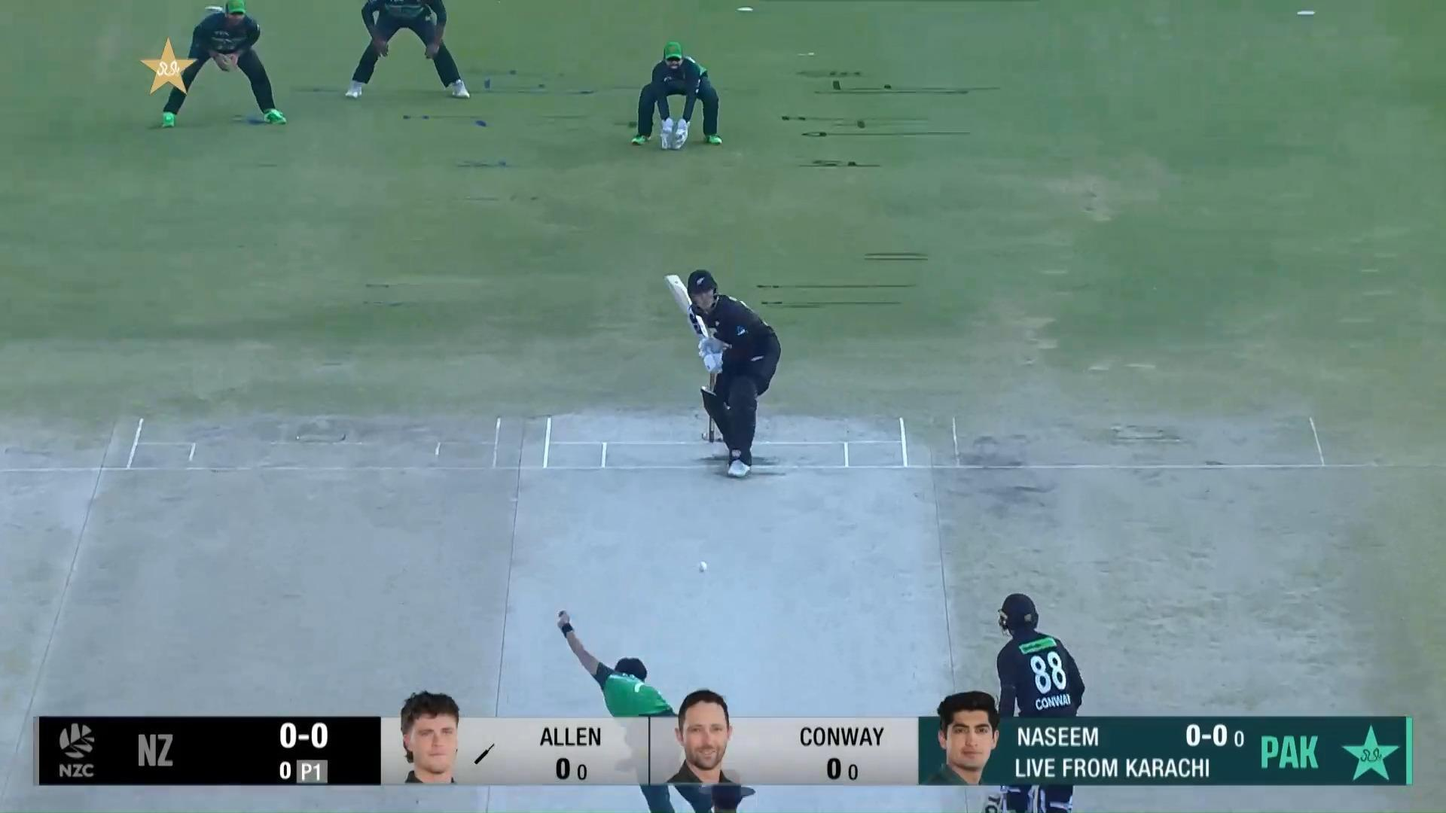BM 1: (664, 268, 782, 479)
BO: (557, 610, 712, 813)
